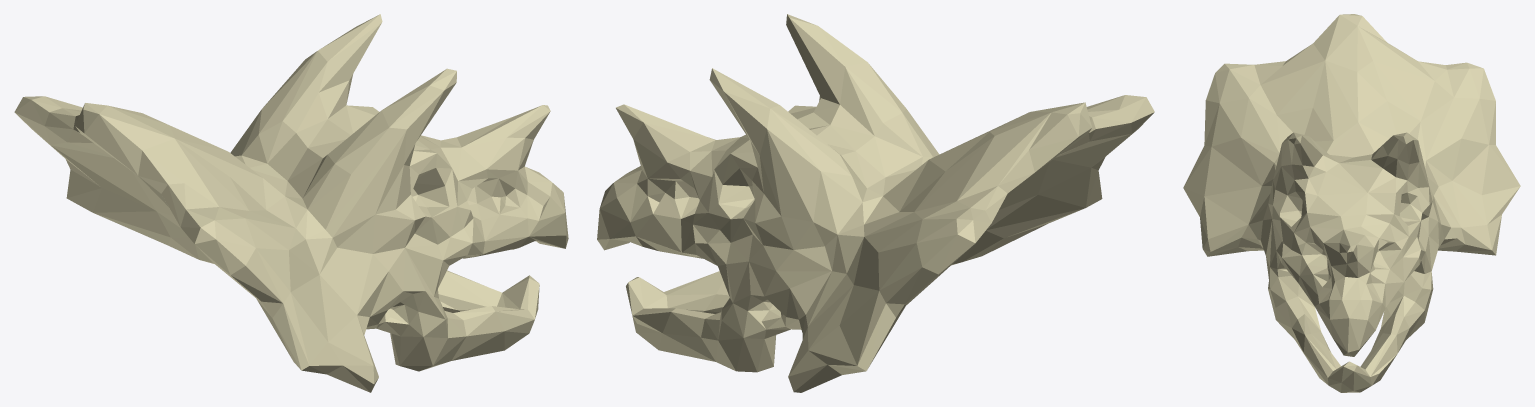
Rendered from SM_LP_Fossil_1.fbx.
3 views of the same model, side by side, from view 1: azimuth 30°, elevation 25°; view 2: azimuth 150°, elevation 25°; view 3: azimuth 270°, elevation 25° (orthographic). The views are drawn at different scales.
Visible parts, largest first — view 1: SM_LP_Fossil_1; view 2: SM_LP_Fossil_1; view 3: SM_LP_Fossil_1.
Part boxes in pixels (x1,y1,x2,y2): SM_LP_Fossil_1: (14,14,568,392); SM_LP_Fossil_1: (597,14,1154,392); SM_LP_Fossil_1: (1183,14,1520,392).
Size of the model in its own units: 1.07 by 0.6847 by 0.9042.
